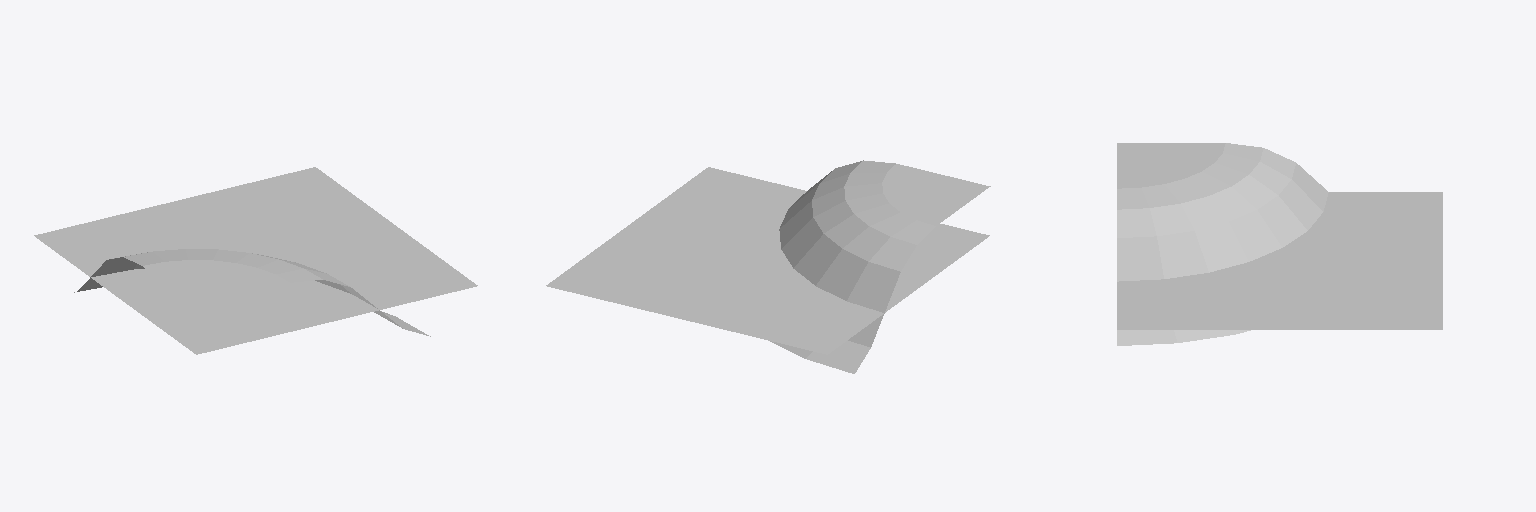
The model's file is Terrain_Water_Corner_Outer_2x2.obj.
The picture shows the model from 3 angles: view 1: azimuth 30°, elevation 25°; view 2: azimuth 150°, elevation 25°; view 3: azimuth 270°, elevation 25°; orthographic projection.
Visible parts, largest first — view 1: object1, object2; view 2: object1, object2; view 3: object1, object2.
Part boxes in pixels (x1,y1,x2,y2): object1: (34,167,477,354); object2: (74,249,430,336); object1: (546,167,989,354); object2: (770,160,990,373); object1: (1117,192,1442,329); object2: (1117,143,1328,345).
Size of the model in its own units: 3 by 0.9 by 3.